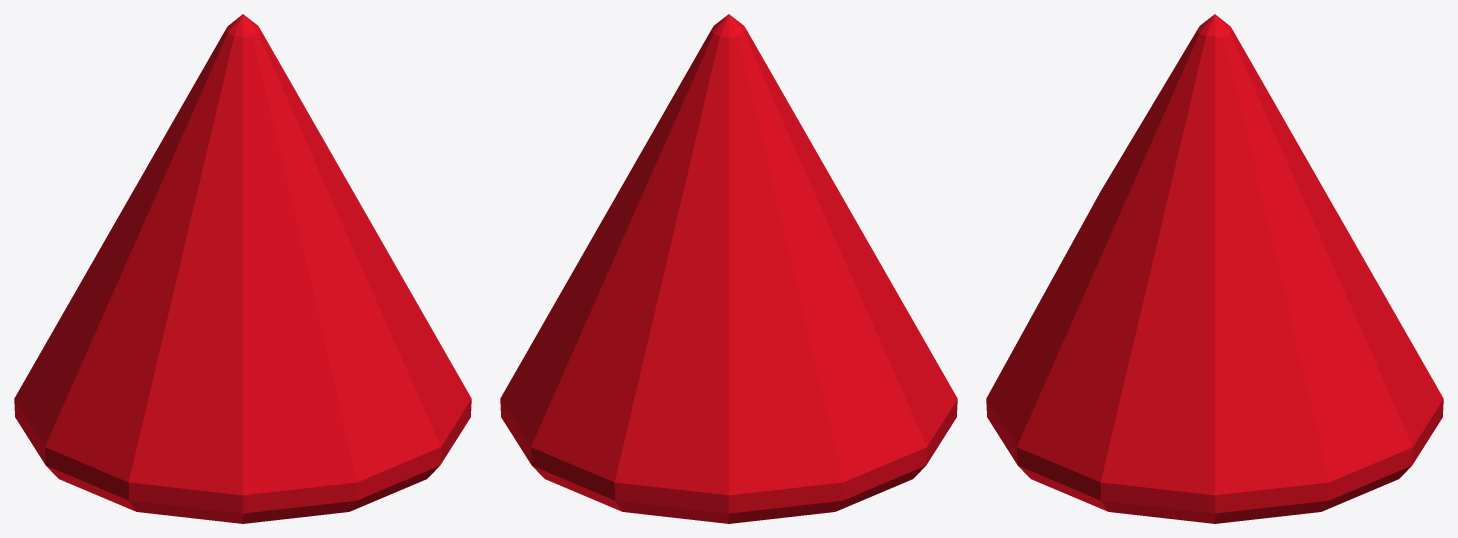
Rendered from NoseCapAsset.fbx.
3 views of the same model, side by side, from view 1: azimuth 30°, elevation 25°; view 2: azimuth 150°, elevation 25°; view 3: azimuth 270°, elevation 25° (orthographic).
Visible parts, largest first — view 1: Cone; view 2: Cone; view 3: Cone.
Boxes of the visible parts, <box> form: Cone: <box>14,14,471,523</box>; Cone: <box>500,14,957,523</box>; Cone: <box>986,14,1443,523</box>.
Bounding box in the file's own units: 184 × 187 × 184.
